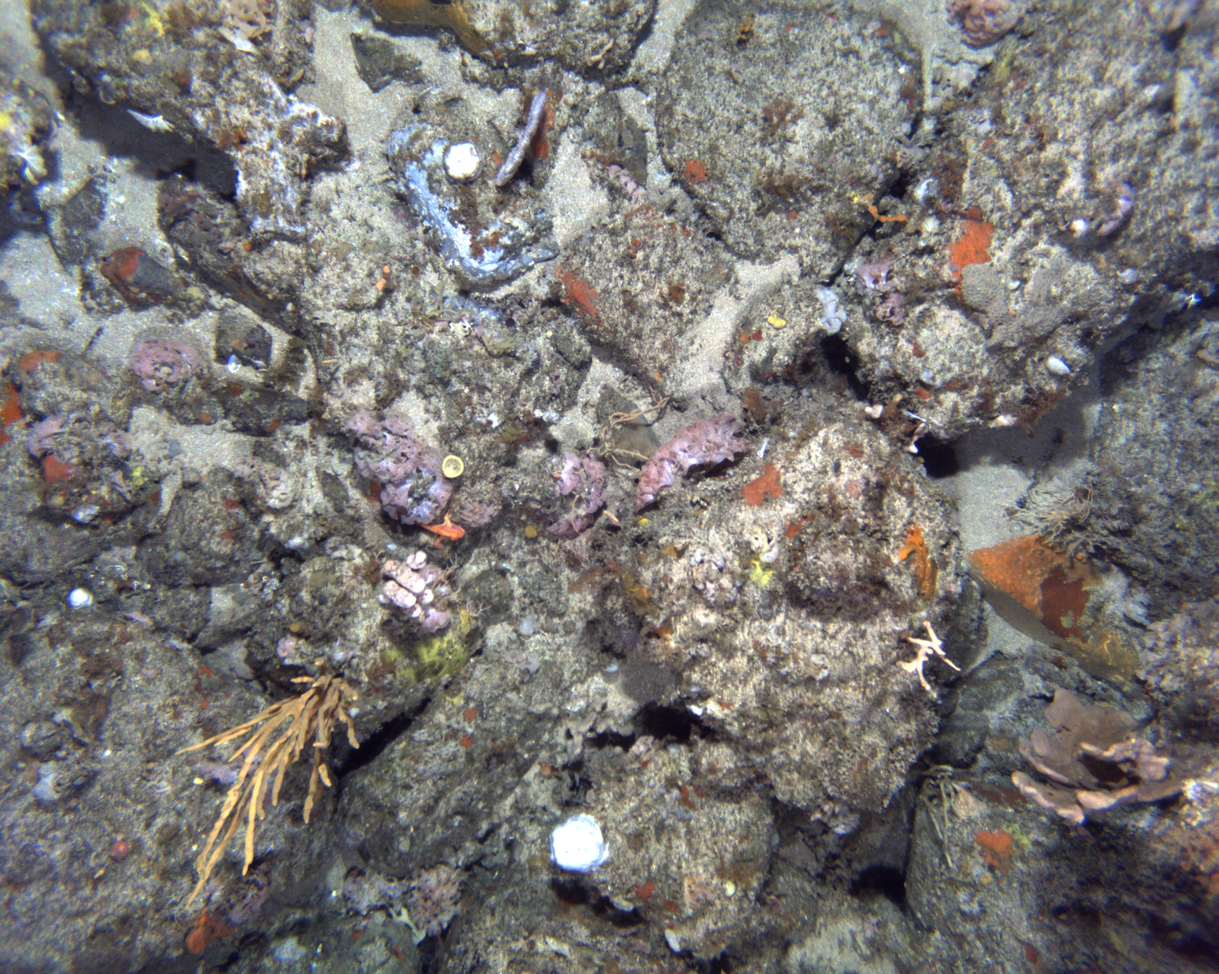Brachionichthyidae: (412, 507, 468, 550)
